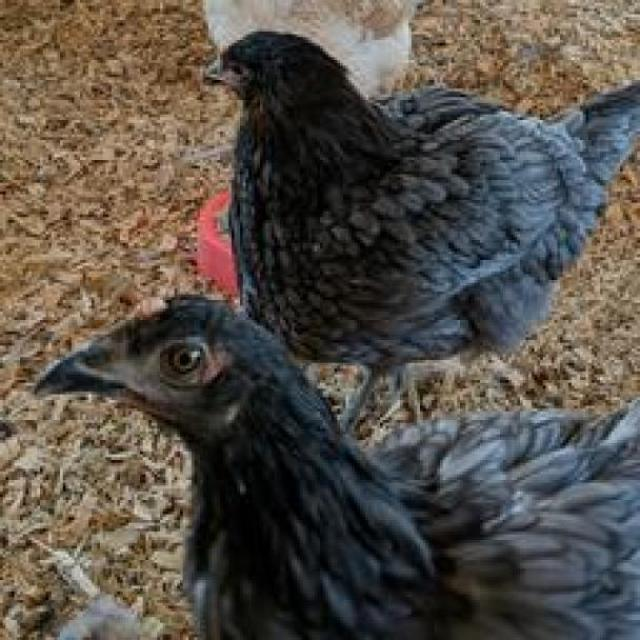Chicken: (28, 276, 640, 640), (194, 21, 640, 398)
